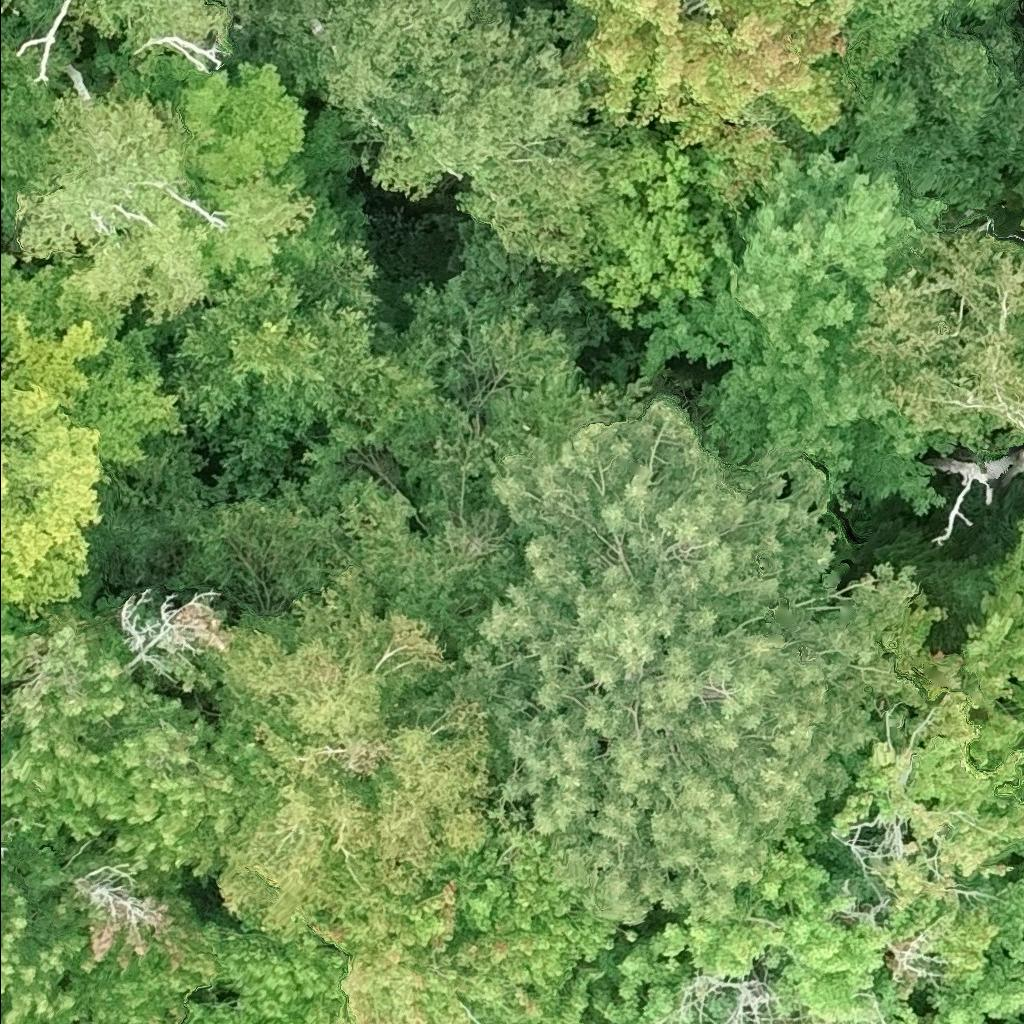crown: (437, 381, 928, 927), (633, 146, 1009, 517), (202, 559, 499, 942), (795, 588, 1023, 1023), (183, 824, 637, 1023), (302, 0, 605, 269), (0, 600, 245, 893), (0, 250, 186, 619), (562, 0, 864, 224), (590, 829, 933, 1023), (18, 78, 217, 327), (164, 232, 403, 439), (854, 217, 1023, 433), (31, 885, 227, 1023), (0, 822, 126, 1023), (924, 517, 1023, 766), (202, 173, 320, 277), (0, 31, 59, 232), (77, 0, 234, 48), (1000, 777, 1023, 804), (0, 729, 17, 760), (1007, 834, 1023, 858), (0, 0, 22, 17), (0, 680, 13, 702), (0, 813, 7, 822), (1022, 180, 1023, 195)
